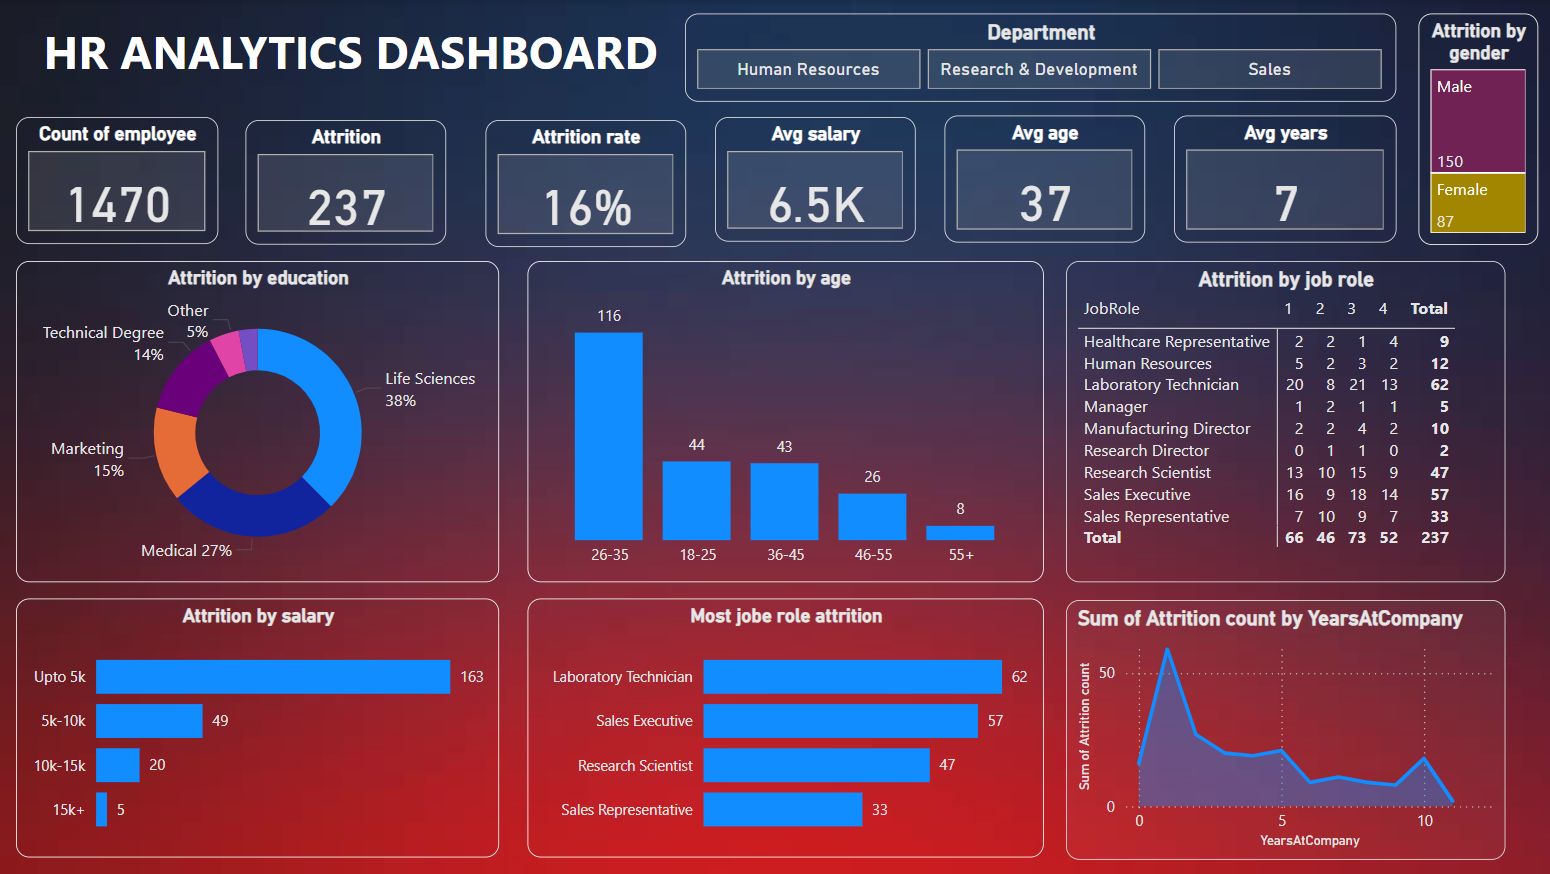

The dashboard page shown, as its layout file describes it:
{"tool":"powerbi","page":{"name":"Page 1","canvas":[1280,720],"ordinal":0},"visuals":[{"type":"cardVisual","title":"Count of employee","fields":{"Data":["CountNonNull(HR_Analytics.EmpID)"]},"box":[15.1,96.9,166.6,104.5],"z":0},{"type":"cardVisual","title":"Attrition","fields":{"Data":["Sum(HR_Analytics.Attrition count )"]},"box":[204.4,98.4,165,103],"z":1000},{"type":"cardVisual","title":"Attrition rate","fields":{"Data":["HR_Analytics.Attrition rate"]},"box":[401.3,98.4,165,104.5],"z":2000},{"type":"cardVisual","title":"Avg age","fields":{"Data":["Avg(HR_Analytics.Age)"]},"box":[779.8,95.4,165,104.5],"z":3000},{"type":"cardVisual","title":"Avg salary","fields":{"Data":["Avg(HR_Analytics.MonthlyIncome)"]},"box":[590.5,96.9,165,103],"z":4000},{"type":"cardVisual","title":"Avg years","fields":{"Data":["Avg(HR_Analytics.YearsAtCompany)"]},"box":[969.1,95.4,183.2,104.5],"z":5000},{"type":"donutChart","title":"Attrition by education ","fields":{"Category":["HR_Analytics.EducationField"],"Y":["Sum(HR_Analytics.Attrition count )"]},"box":[15.1,215,398.2,265],"z":6000},{"type":"columnChart","title":"Attrition by age ","fields":{"Y":["Sum(HR_Analytics.Attrition count )"],"Category":["HR_Analytics.AgeGroup"]},"box":[436.1,215,425.5,265],"z":7000},{"type":"pivotTable","title":"Attrition by job role","fields":{"Rows":["HR_Analytics.JobRole"],"Columns":["HR_Analytics.JobSatisfaction"],"Values":["Sum(HR_Analytics.Attrition count )"]},"box":[879.8,215,361.9,265],"z":7001},{"type":"barChart","title":"Attrition by salary ","fields":{"Category":["HR_Analytics.SalarySlab"],"Y":["Sum(HR_Analytics.Attrition count )"]},"box":[15.1,493.6,398.2,213.5],"z":7002},{"type":"barChart","title":"Most jobe role attrition","fields":{"Category":["HR_Analytics.JobRole"],"Y":["Sum(HR_Analytics.Attrition count )"]},"box":[436.1,493.6,425.5,213.5],"z":7003},{"type":"areaChart","fields":{"Y":["Sum(HR_Analytics.Attrition count )"],"Category":["HR_Analytics.YearsAtCompany"]},"box":[880,494,362,214],"z":7004},{"type":"treemap","title":"Attrition by gender ","fields":{"Group":["HR_Analytics.Gender","HR_Analytics.Attrition count "],"Values":["Sum(HR_Analytics.Attrition count )"]},"box":[1170.5,10.6,98.4,190.8],"z":7005},{"type":"advancedSlicerVisual","fields":{"Values":["HR_Analytics.Department"]},"box":[566.3,10.6,586,72.7],"z":7006},{"type":"textbox","box":[15.1,10.6,551.2,72.7],"z":7007}]}

Visuals, with their boxes in screenshot pixels (x1, y1, x2, y2), scaled from the page's 1280x720 canvas onto the 1550x874 screenshot:
"Count of employee" cardVisual: x1=18, y1=118, x2=220, y2=244
"Attrition" cardVisual: x1=248, y1=119, x2=447, y2=244
"Attrition rate" cardVisual: x1=486, y1=119, x2=686, y2=246
"Avg age" cardVisual: x1=944, y1=116, x2=1144, y2=243
"Avg salary" cardVisual: x1=715, y1=118, x2=915, y2=243
"Avg years" cardVisual: x1=1174, y1=116, x2=1395, y2=243
"Attrition by education " donutChart: x1=18, y1=261, x2=500, y2=583
"Attrition by age " columnChart: x1=528, y1=261, x2=1043, y2=583
"Attrition by job role" pivotTable: x1=1065, y1=261, x2=1504, y2=583
"Attrition by salary " barChart: x1=18, y1=599, x2=500, y2=858
"Most jobe role attrition" barChart: x1=528, y1=599, x2=1043, y2=858
areaChart - Sum(HR_Analytics.Attrition count ) x HR_Analytics.YearsAtCompany: x1=1066, y1=600, x2=1504, y2=859
"Attrition by gender " treemap: x1=1417, y1=13, x2=1537, y2=244
advancedSlicerVisual - HR_Analytics.Department: x1=686, y1=13, x2=1395, y2=101
textbox: x1=18, y1=13, x2=686, y2=101
